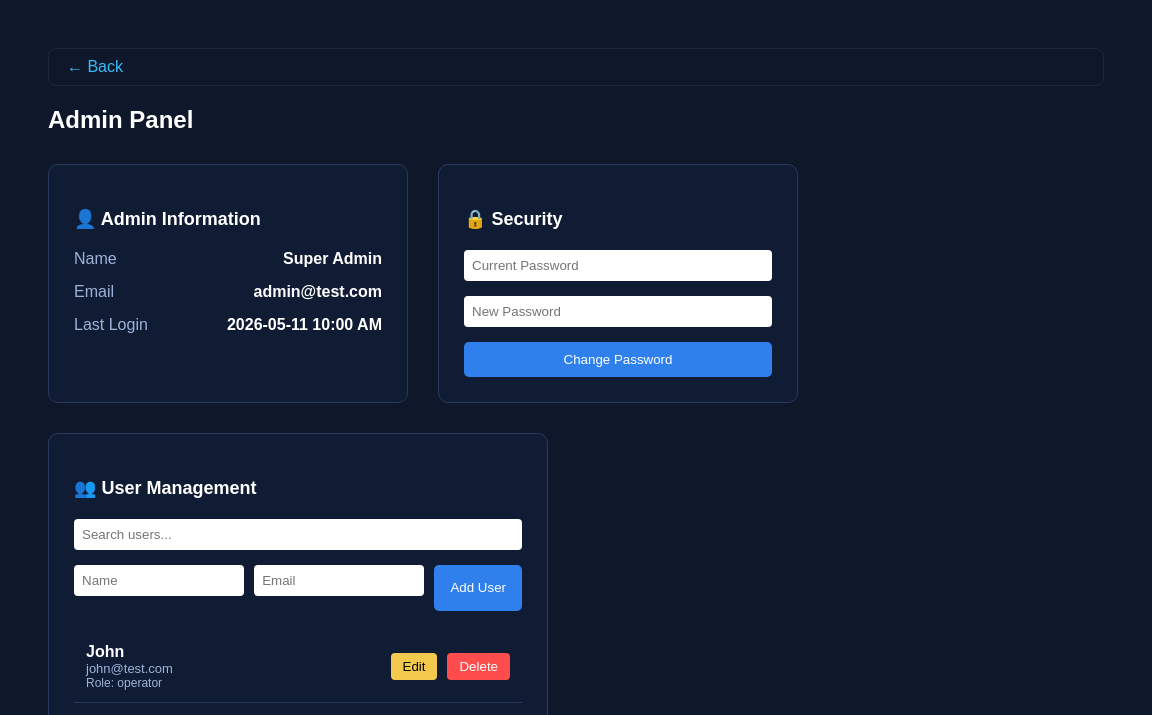
Test: AdminProfile Page › loads user data into form on edit
The image size is (1152, 715).
Expected: the text "John" is shown, [86,643,124,660]
Click the button "Edit".
click(414, 666)  # box [390,653,438,680]
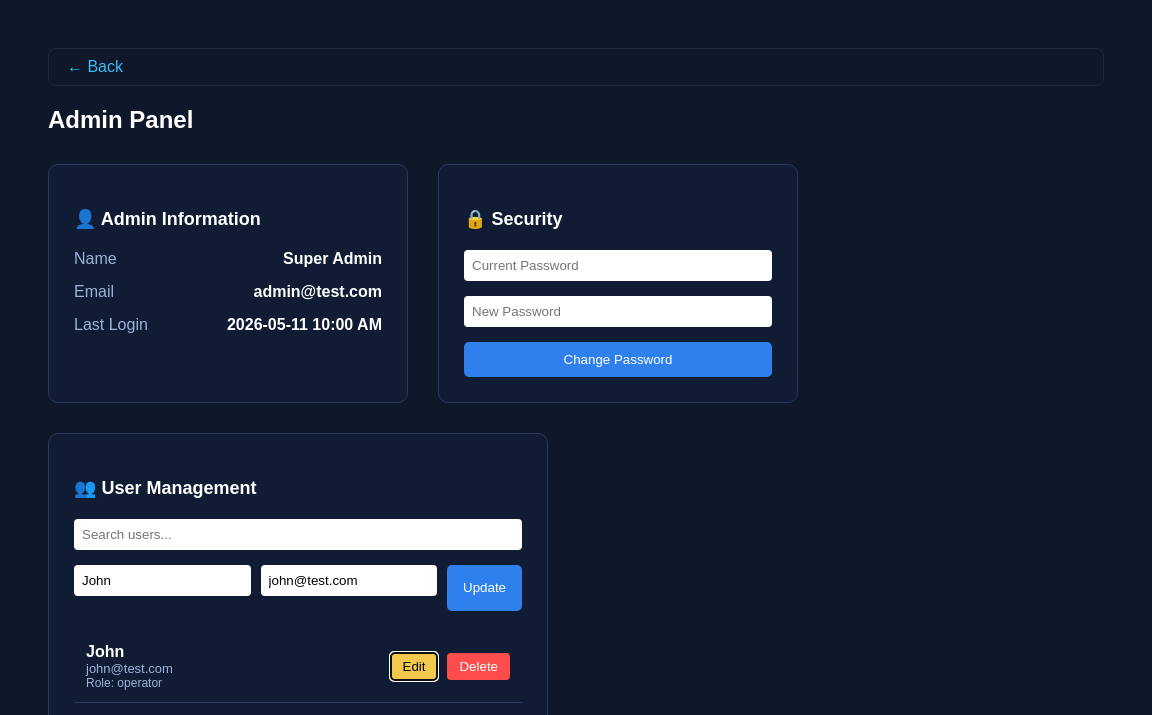
Expected: the 1st field showing "John" is shown, [74,565,250,596]
Expected: the 2nd field showing "john@test.com" is shown, [260,565,437,596]
